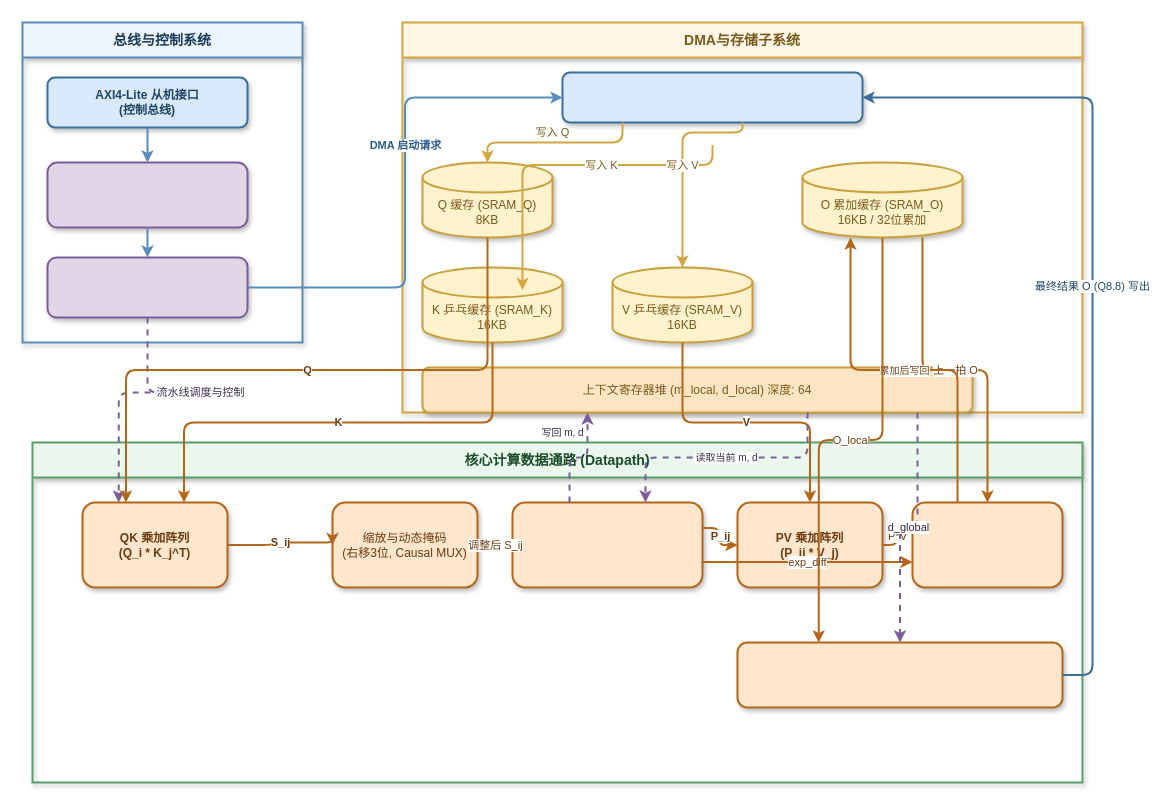
The diagram is 1167 pixels wide and 807 high, and some of its shapes have lost their labels. The shapes that lost their labels are listed below. From the top down, each one's centre as x and y in pixels, then its label:
(x=713, y=98): AXI4 主机接口 (DMA搬运引擎)
(x=148, y=196): 配置寄存器组 (基地址, N, S, d 等)
(x=148, y=288): 主状态机 (外层 Tr 与内层 Tc 循环调度)
(x=608, y=546): 在线 Softmax 引擎 (求最大值, EXP查表, d累加)
(x=988, y=546): O 矩阵更新单元 (O * exp_diff + P*V)
(x=900, y=676): 除法与量化单元 (O_local / d_global, Q8.8 饱和截断)
